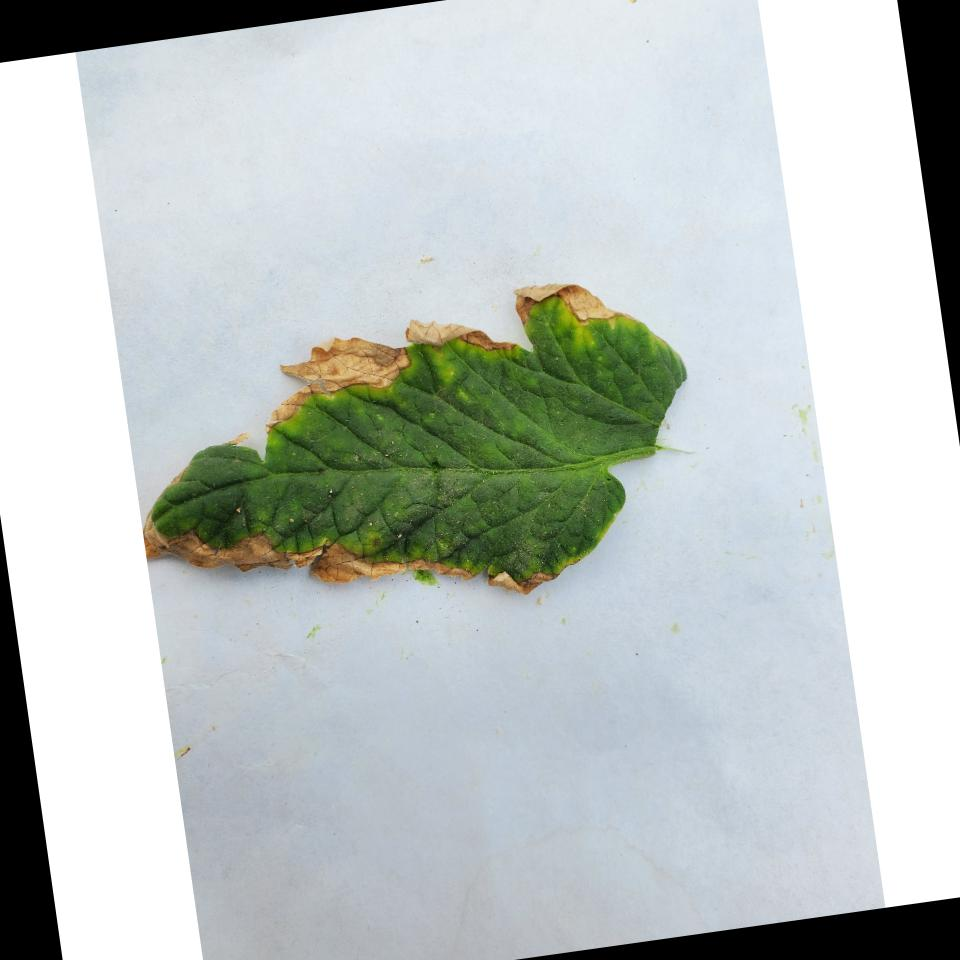tomato_bacterial_blight: (116, 270, 709, 634)
